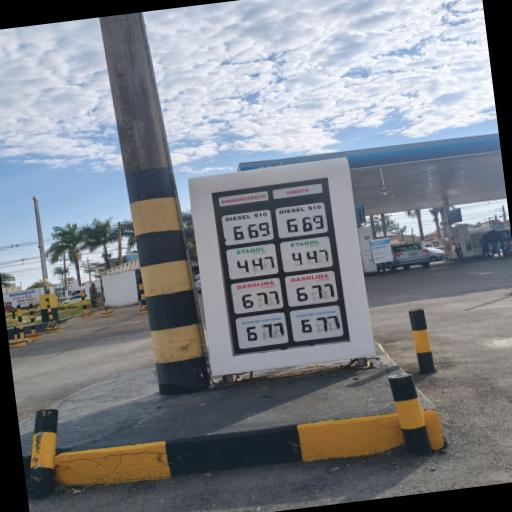ETANOL: (225, 244, 276, 259)
GASOLINA AD: (238, 313, 287, 327)
GASOLINA C: (232, 280, 281, 294)
S10: (224, 210, 271, 224)
preco: (192, 161, 369, 368), (228, 219, 274, 244), (240, 321, 287, 345), (232, 256, 279, 279), (238, 290, 281, 310)
